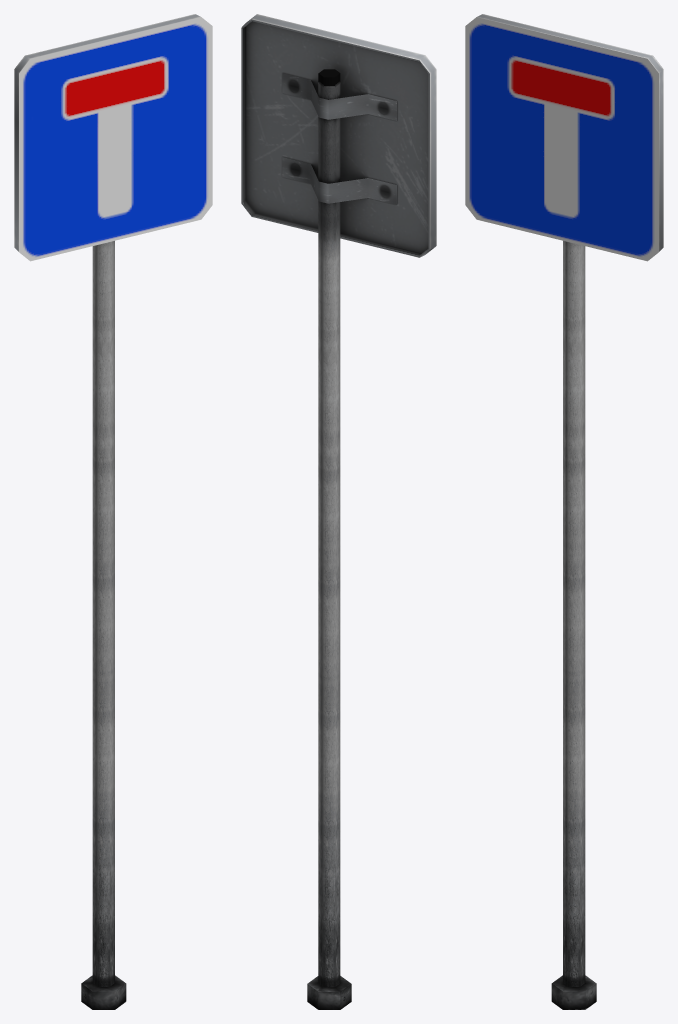
The model's file is ROD0310040.FBX.
3 renders of one model, left to right at view 1: azimuth 30°, elevation 25°; view 2: azimuth 150°, elevation 25°; view 3: azimuth 330°, elevation 25°, orthographic.
Visible parts, largest first — view 1: smROD0310040; view 2: smROD0310040; view 3: smROD0310040.
Part boxes in pixels (x1,y1,x2,y2): smROD0310040: [14, 14, 212, 1009]; smROD0310040: [241, 14, 436, 1009]; smROD0310040: [465, 14, 663, 1009].
Bounding box in the file's own units: 0.5079 × 2.44 × 0.1057.
Materials: 1 (1 with a texture image).
